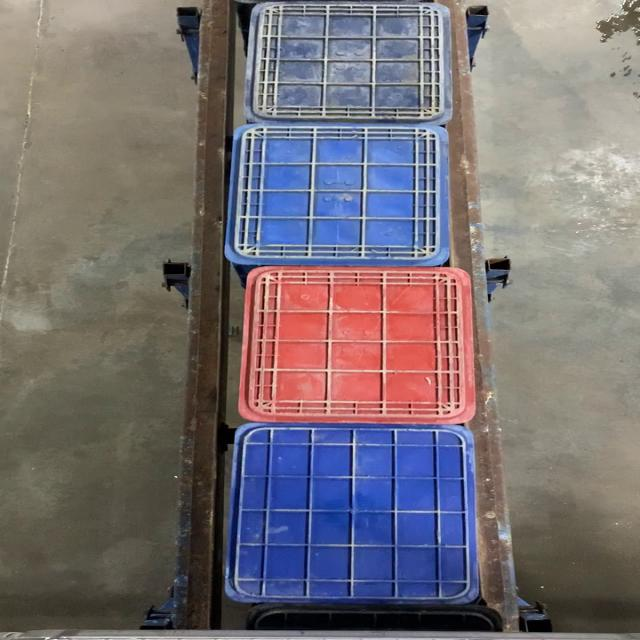Box: (227, 423, 477, 604), (238, 268, 481, 423), (225, 125, 450, 267), (244, 1, 448, 125)
